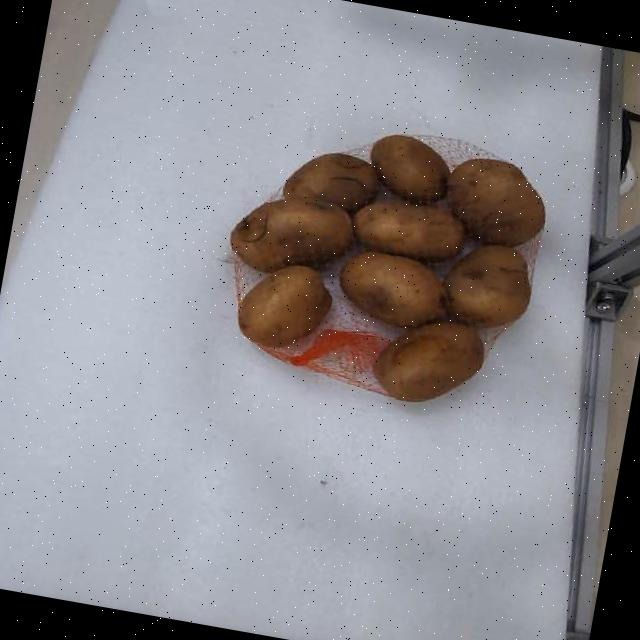potato: (231, 198, 352, 272), (373, 320, 483, 400), (447, 158, 544, 244), (339, 251, 443, 327), (237, 264, 331, 344), (444, 244, 530, 325), (352, 201, 464, 261), (284, 151, 378, 210), (373, 134, 448, 200)
